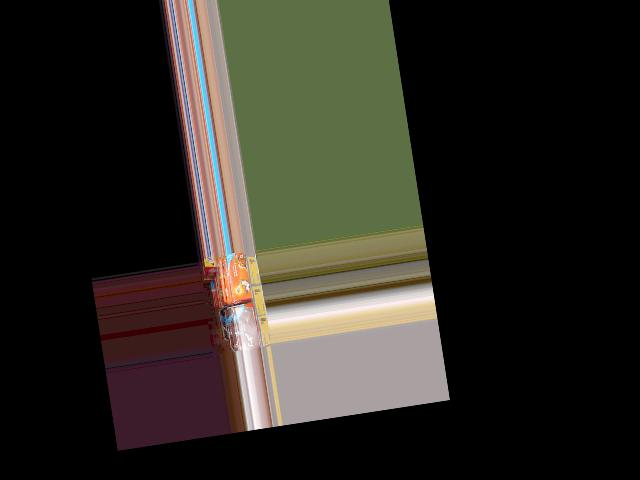chocolate: (232, 306, 265, 352)
